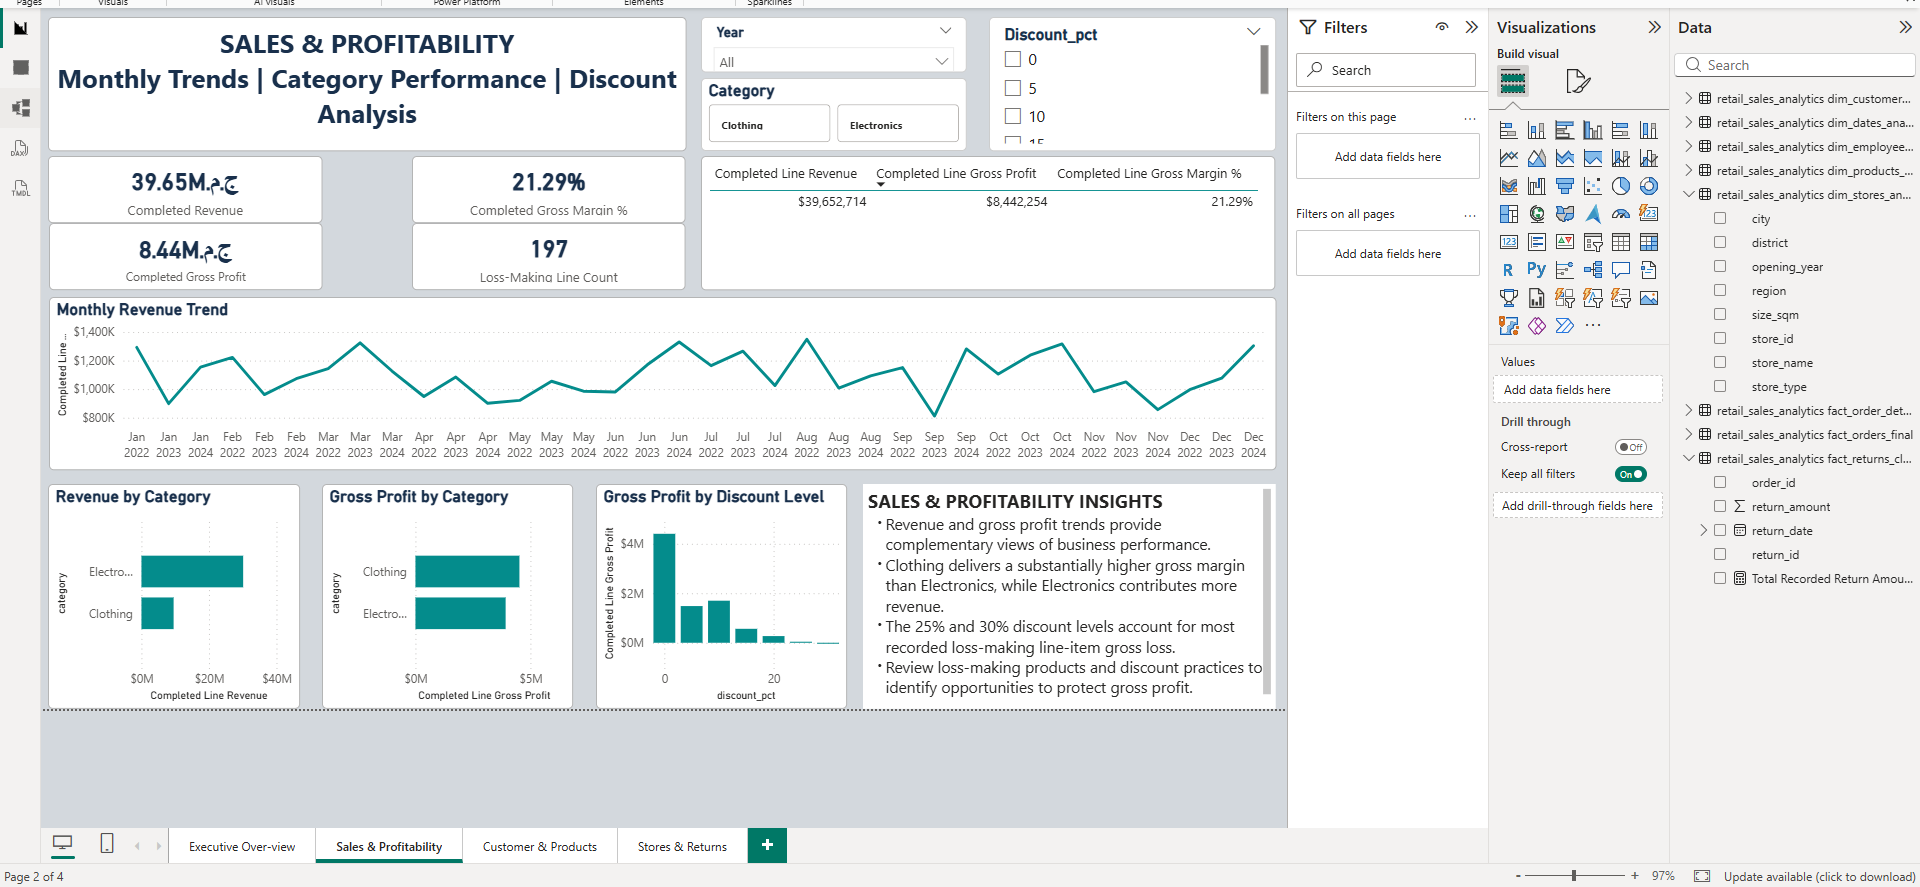

Layout of this report page (visuals, bound fields, positions):
{"tool":"powerbi","page":{"name":"Sales & Profitability","canvas":[1280,720],"ordinal":1},"visuals":[{"type":"textbox","box":[6.8,8.8,655.6,138.1],"z":0},{"type":"card","fields":{"Values":["retail_sales_analytics fact_orders_final.Completed Revenue"]},"box":[6.8,151.7,282.1,69.1],"z":1000},{"type":"card","fields":{"Values":["retail_sales_analytics fact_orders_final.Completed Gross Margin %"]},"box":[381.3,151.7,281.1,69.1],"z":2000},{"type":"card","fields":{"Values":["retail_sales_analytics fact_orders_final.Completed Gross Profit"]},"box":[7.8,220.8,281.1,69.1],"z":3000},{"type":"card","fields":{"Values":["retail_sales_analytics fact_order_details_analytics.Loss-Making Line Count"]},"box":[381.3,220.8,281.1,69.1],"z":4000},{"type":"lineChart","title":"Monthly Revenue Trend","fields":{"Y":["retail_sales_analytics fact_order_details_analytics.Completed Line Revenue","select"],"Category":["retail_sales_analytics dim_dates_analytics.Month-Year"]},"box":[7.8,296.7,1260.5,178],"z":5000},{"type":"clusteredBarChart","title":"Revenue by Category","fields":{"Category":["retail_sales_analytics dim_products_clean.category"],"Y":["retail_sales_analytics fact_order_details_analytics.Completed Line Revenue"]},"box":[6.8,489.2,258.7,230.5],"z":6000},{"type":"clusteredBarChart","title":"Gross Profit by Category","fields":{"Category":["retail_sales_analytics dim_products_clean.category"],"Y":["retail_sales_analytics fact_order_details_analytics.Completed Line Gross Profit"]},"box":[288.9,489.2,257.8,230.5],"z":7000},{"type":"columnChart","title":"Gross Profit by Discount Level","fields":{"Category":["retail_sales_analytics fact_order_details_analytics.discount_pct"],"Y":["retail_sales_analytics fact_order_details_analytics.Completed Line Gross Profit"]},"box":[570,489.2,257.8,230.5],"z":8000},{"type":"tableEx","fields":{"Values":["retail_sales_analytics fact_order_details_analytics.Completed Line Revenue","retail_sales_analytics fact_order_details_analytics.Completed Line Gross Profit","retail_sales_analytics fact_order_details_analytics.Completed Line Gross Margin %"]},"box":[677.9,151.7,590.4,138.1],"z":9000},{"type":"slicer","title":"Year","fields":{"Values":["retail_sales_analytics dim_dates_analytics.year"]},"box":[677.9,8.8,273.3,57.4],"z":10000},{"type":"advancedSlicerVisual","title":"Category","fields":{"Values":["retail_sales_analytics dim_products_clean.category"]},"box":[677.9,72,273.3,74.9],"z":11000},{"type":"slicer","fields":{"Values":["retail_sales_analytics fact_order_details_analytics.discount_pct"]},"box":[973.6,8.8,294.7,138.1],"z":12000},{"type":"textbox","box":[844.3,489.2,424.1,230.5],"z":13000}]}

Visuals, with their boxes on the page's 1280x720 design canvas (x1, y1, x2, y2). These are canvas units, not pixel positions in the 1920x887 screenshot, which may show the page scaled, cropped or inside an application window:
textbox: {"x1": 7, "y1": 9, "x2": 662, "y2": 147}
card - retail_sales_analytics fact_orders_final.Completed Revenue: {"x1": 7, "y1": 152, "x2": 289, "y2": 221}
card - retail_sales_analytics fact_orders_final.Completed Gross Margin %: {"x1": 381, "y1": 152, "x2": 662, "y2": 221}
card - retail_sales_analytics fact_orders_final.Completed Gross Profit: {"x1": 8, "y1": 221, "x2": 289, "y2": 290}
card - retail_sales_analytics fact_order_details_analytics.Loss-Making Line Count: {"x1": 381, "y1": 221, "x2": 662, "y2": 290}
"Monthly Revenue Trend" lineChart: {"x1": 8, "y1": 297, "x2": 1268, "y2": 475}
"Revenue by Category" clusteredBarChart: {"x1": 7, "y1": 489, "x2": 266, "y2": 720}
"Gross Profit by Category" clusteredBarChart: {"x1": 289, "y1": 489, "x2": 547, "y2": 720}
"Gross Profit by Discount Level" columnChart: {"x1": 570, "y1": 489, "x2": 828, "y2": 720}
tableEx - retail_sales_analytics fact_order_details_analytics.Completed Line Revenue x retail_sales_analytics fact_order_details_analytics.Completed Line Gross Profit: {"x1": 678, "y1": 152, "x2": 1268, "y2": 290}
"Year" slicer: {"x1": 678, "y1": 9, "x2": 951, "y2": 66}
"Category" advancedSlicerVisual: {"x1": 678, "y1": 72, "x2": 951, "y2": 147}
slicer - retail_sales_analytics fact_order_details_analytics.discount_pct: {"x1": 974, "y1": 9, "x2": 1268, "y2": 147}
textbox: {"x1": 844, "y1": 489, "x2": 1268, "y2": 720}
